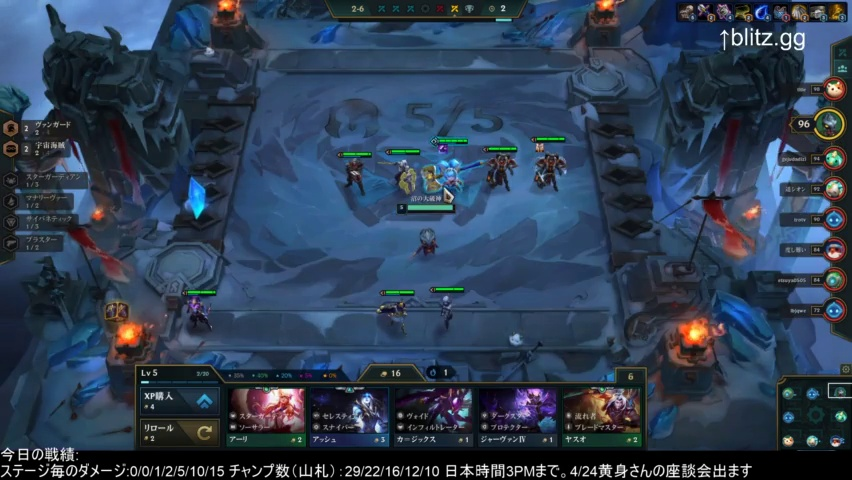fiora: (426, 280, 466, 344)
rakan: (373, 284, 419, 347)
shaco: (174, 286, 219, 337)
